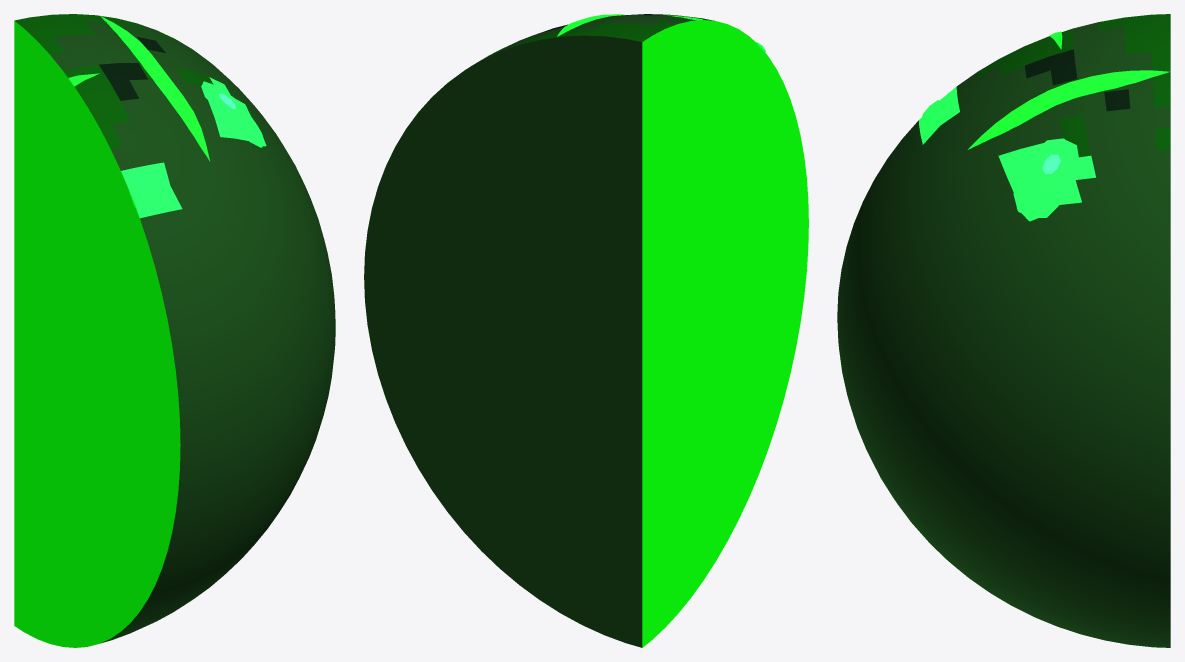
The model's file is newshu-131-f2.glb.
3 renders of one model, left to right at view 1: azimuth 30°, elevation 25°; view 2: azimuth 150°, elevation 25°; view 3: azimuth 270°, elevation 25°, orthographic.
Parts seen in each view (by area): view 1: newshu-131-f2; view 2: newshu-131-f2; view 3: newshu-131-f2.
Part boxes in pixels (box(x1,y1,x2,y2)): newshu-131-f2: box(14, 14, 335, 647); newshu-131-f2: box(364, 14, 808, 647); newshu-131-f2: box(837, 14, 1170, 647).
Bounding box in the file's own units: 1.84 × 3.83 × 1.91.
